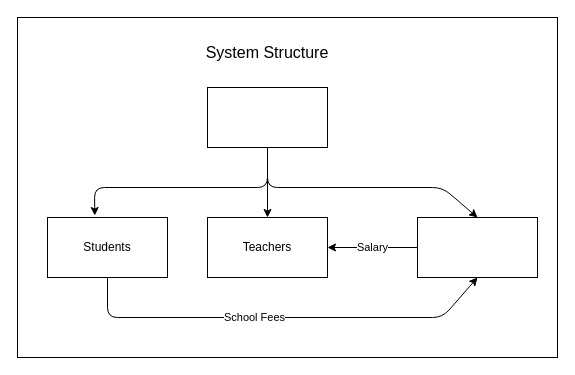
This 575x375 diagram has some shape labels left out. The centre of each missing label's shape, as x and y in pixels:
"Money" goes at (477,247).
"School" goes at (267,117).
